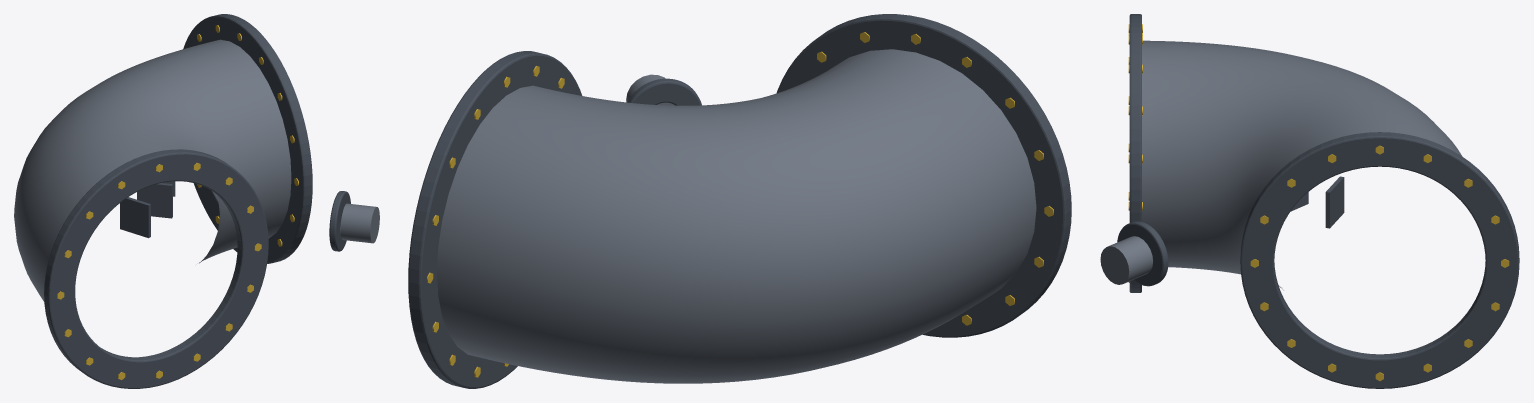
Rendered from l_shape_elbow_duct.glb.
The picture shows the model from 3 angles, left to right: view 1: azimuth 30°, elevation 25°; view 2: azimuth 150°, elevation 25°; view 3: azimuth 270°, elevation 25°; orthographic projection. The views are drawn at different scales.
Visible parts, largest first — view 1: LShapedElbowDuct; view 2: LShapedElbowDuct; view 3: LShapedElbowDuct.
Part boxes in pixels (x1,y1,x2,y2): LShapedElbowDuct: (14, 14, 379, 388); LShapedElbowDuct: (408, 14, 1071, 388); LShapedElbowDuct: (1100, 14, 1519, 388).
Bounding box in the file's own units: 3.71 × 2.47 × 3.71.
